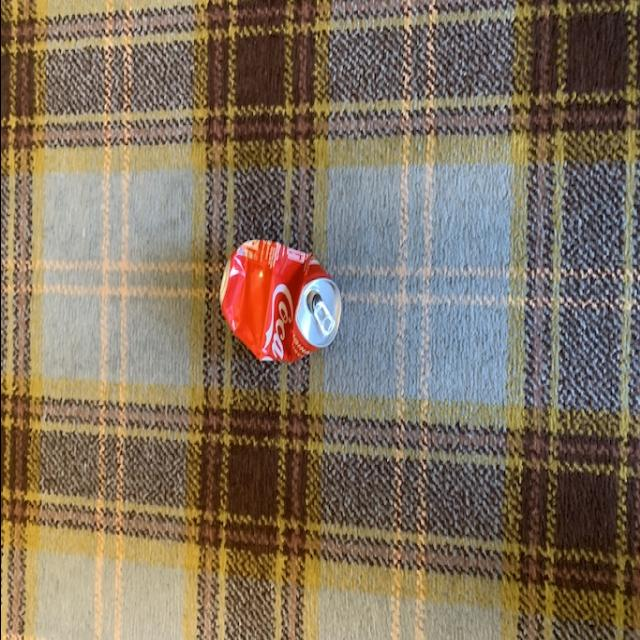Aluminum Can: (211, 225, 347, 381)
